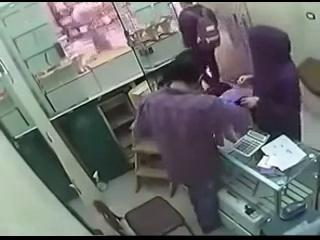Normal: (131, 63, 256, 234), (246, 25, 302, 142), (92, 196, 194, 236), (178, 4, 224, 90), (233, 128, 271, 158)
